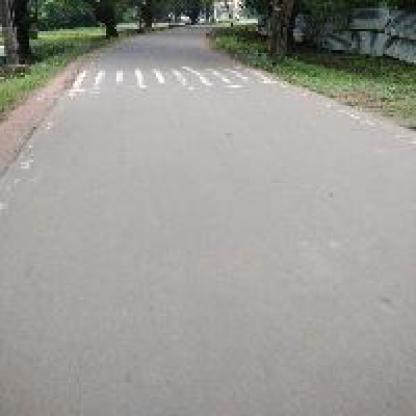Speed Bump: (70, 60, 276, 98)
